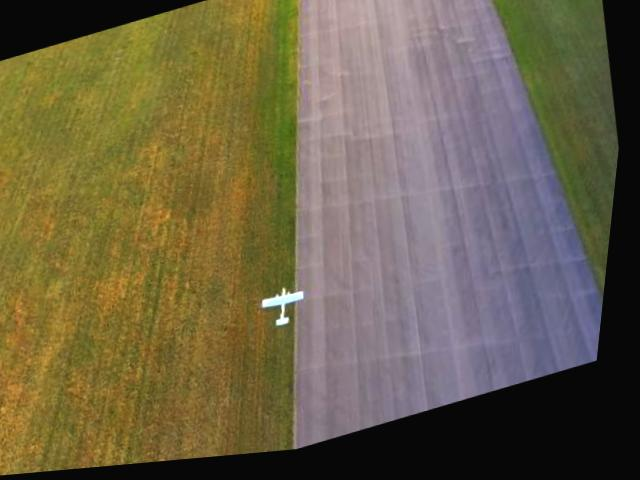uav: (264, 287, 318, 336)
